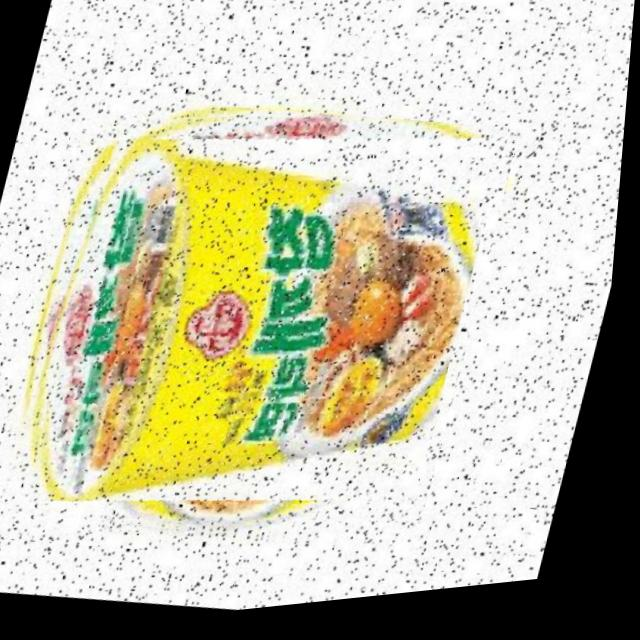Miscellaneous: (0, 64, 515, 596)
